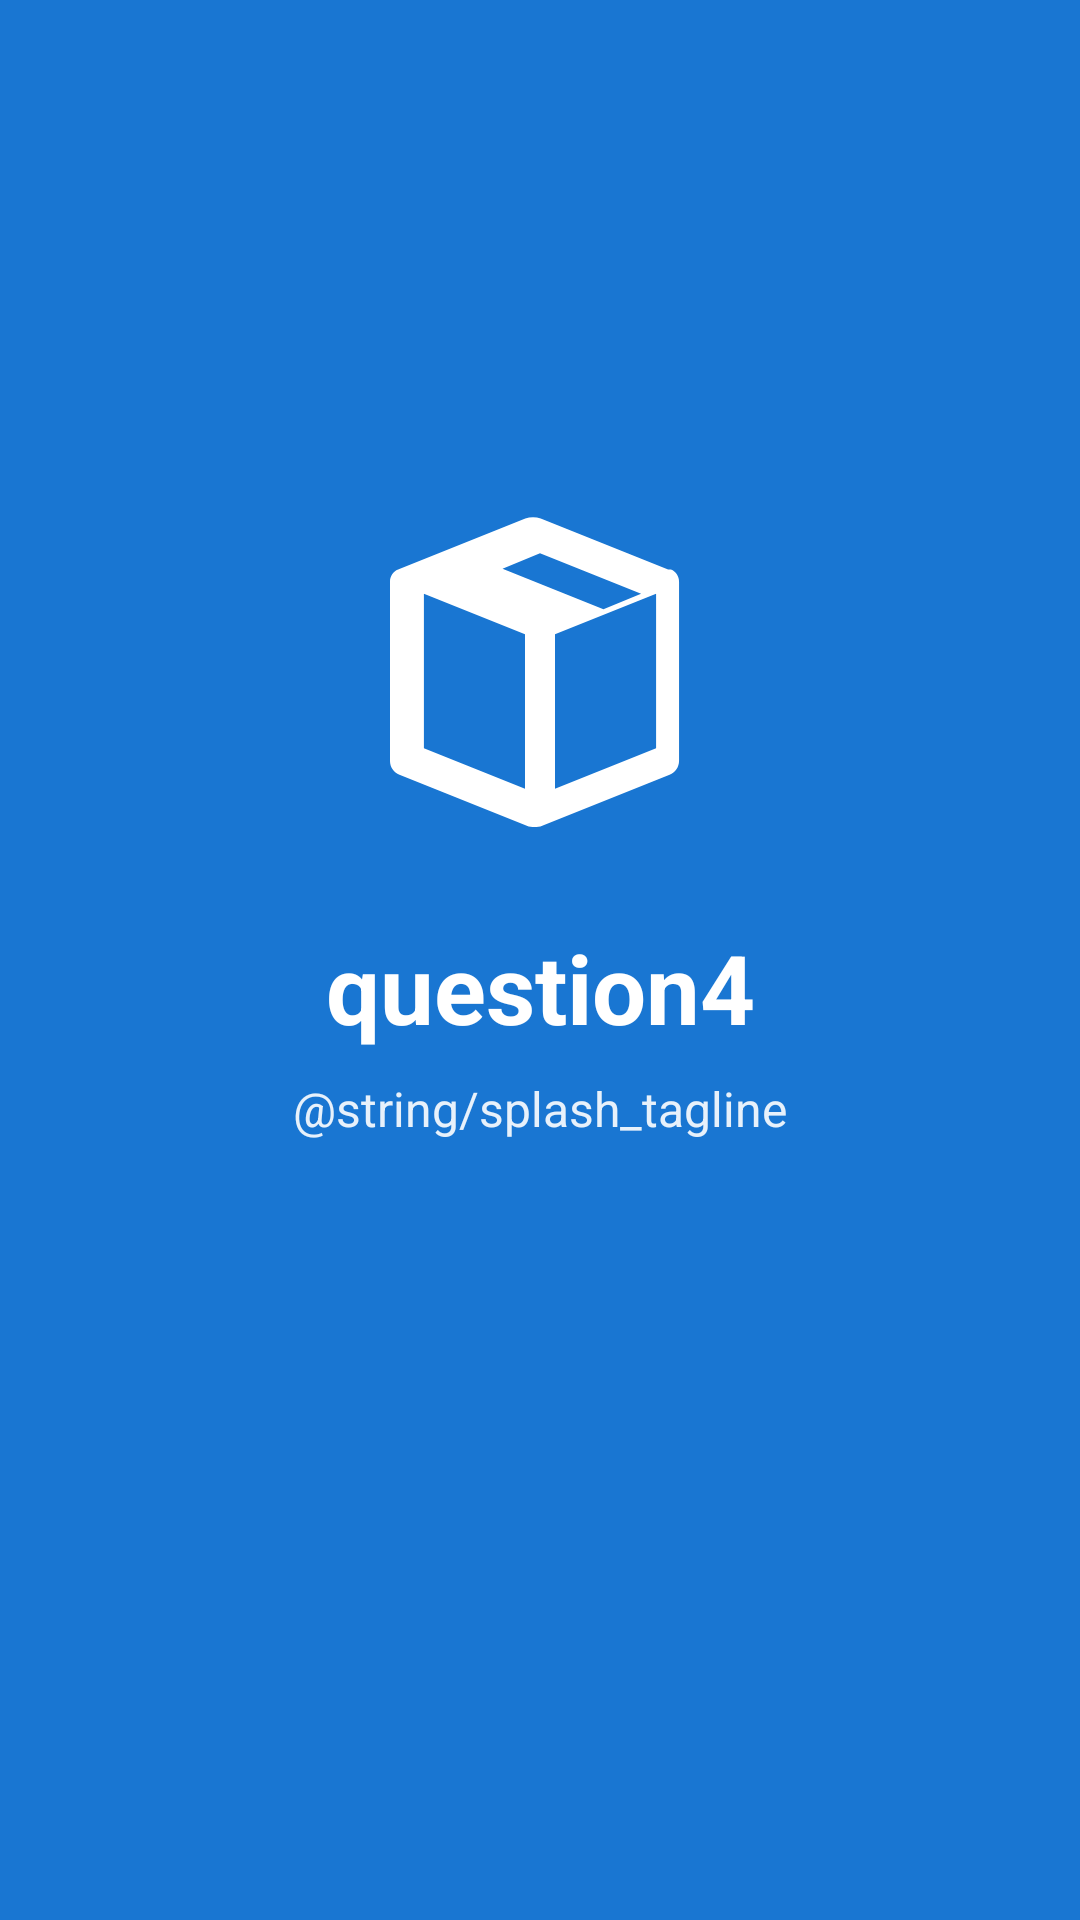

Screen size 1080 × 1920. Icon name, then its box in pixels as bbox=(x1, y1, x2, y2):
box: bbox=(390, 517, 679, 827)
